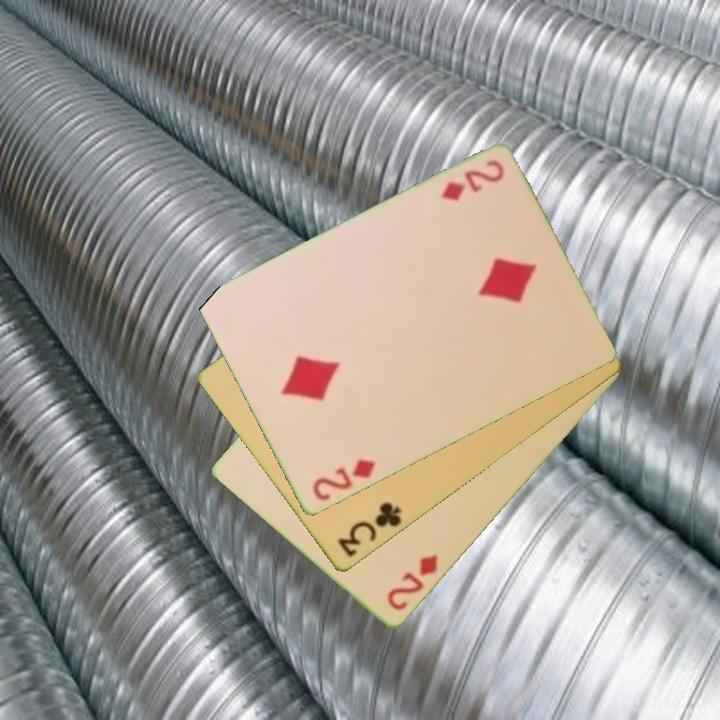2d: (383, 551, 441, 614), (308, 455, 379, 505), (437, 156, 507, 205)
3c: (333, 499, 405, 561)
